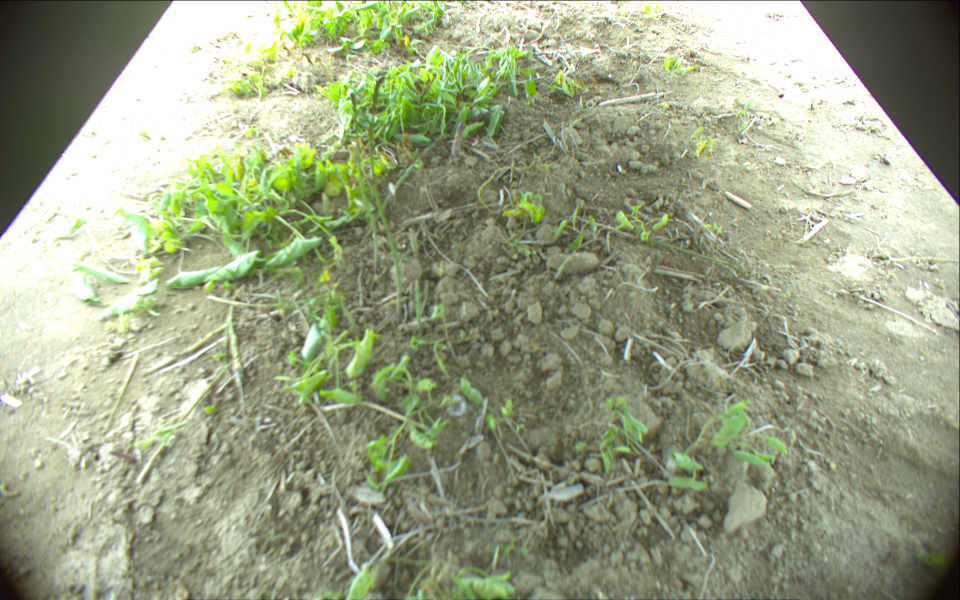aspa: (367, 77, 406, 318), (349, 92, 379, 267), (408, 226, 427, 330), (451, 118, 468, 156)
